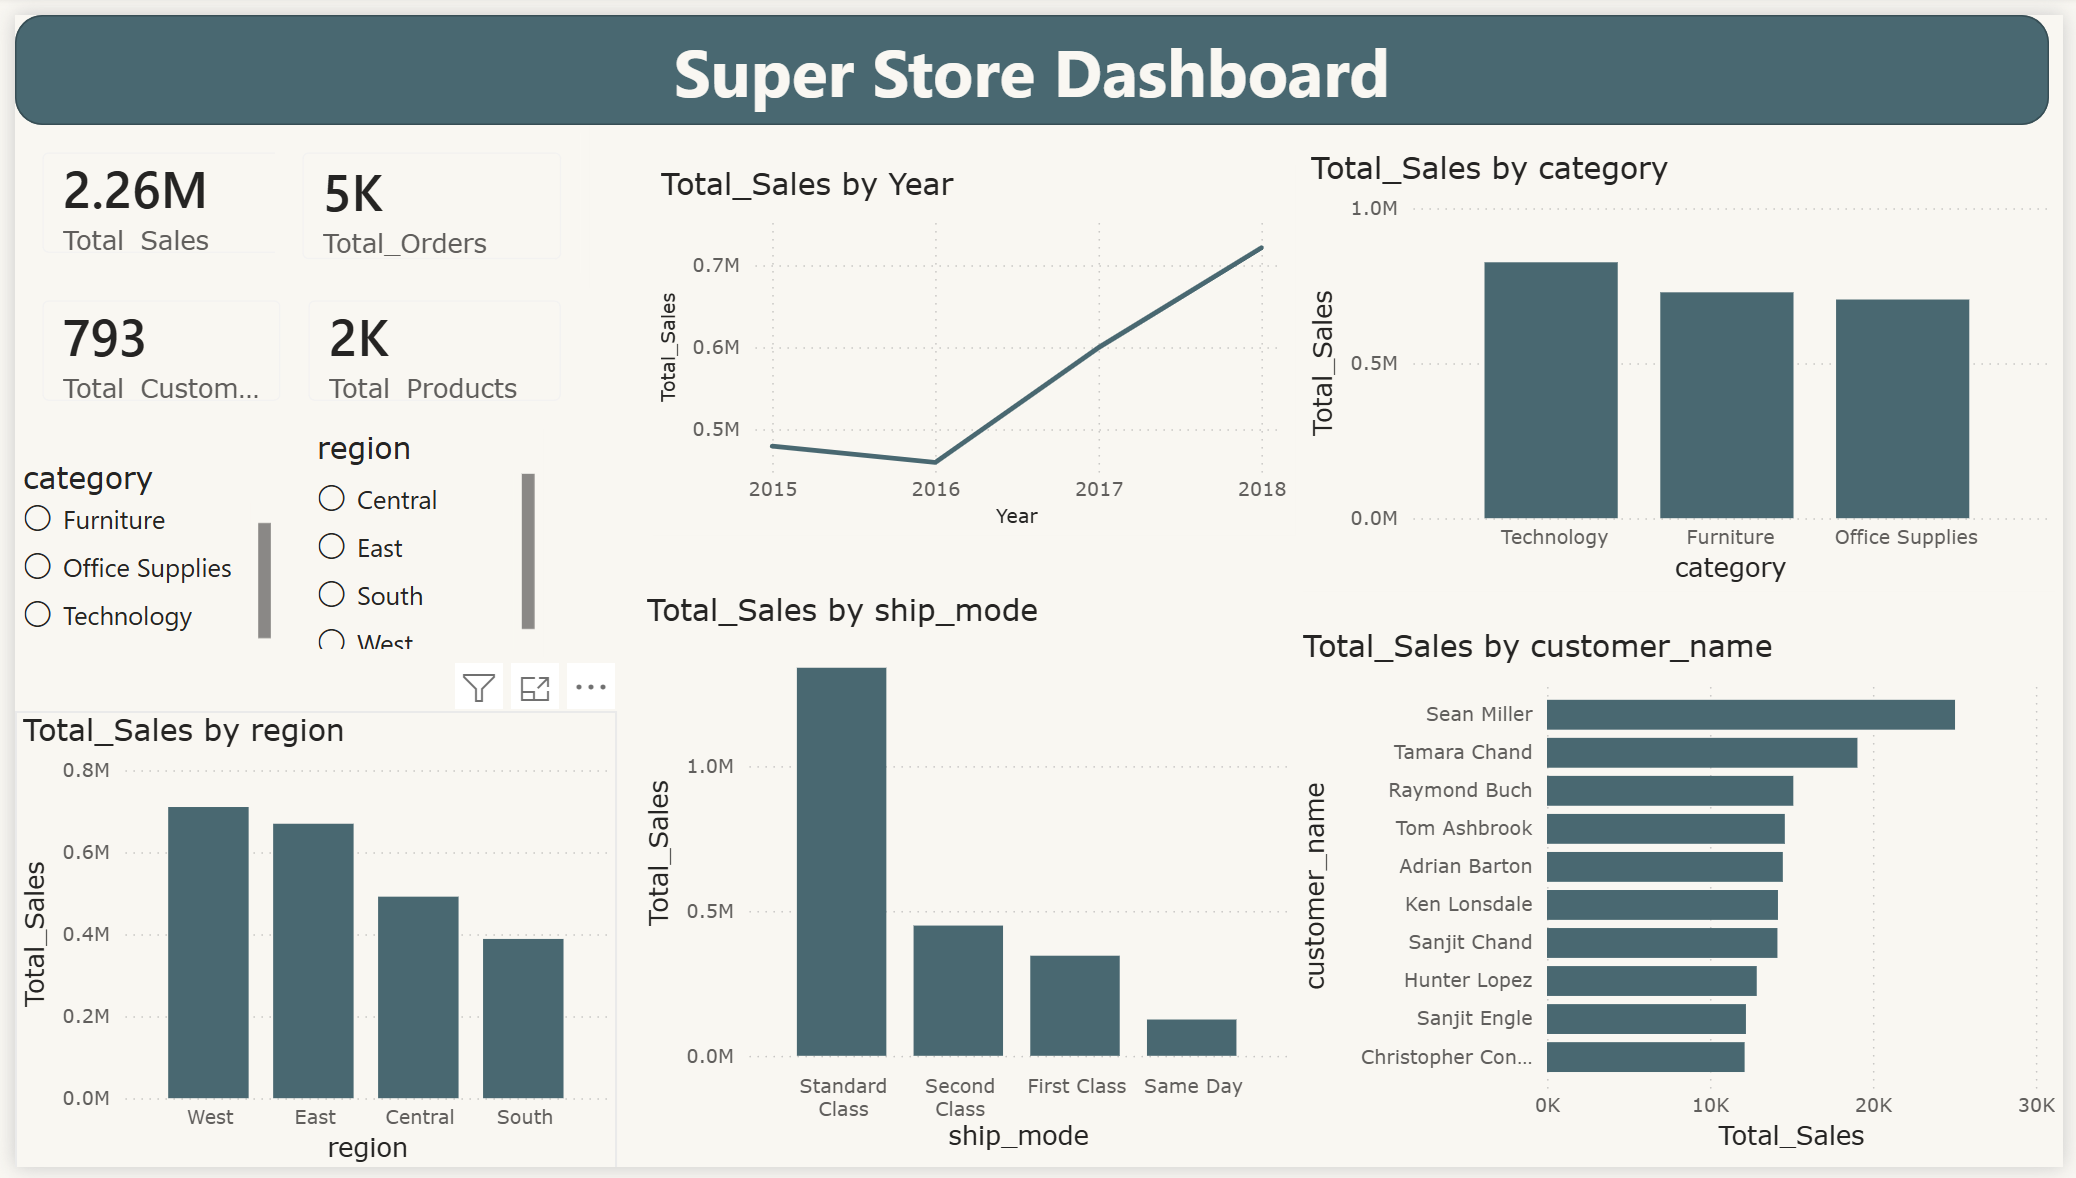

Layout of this report page (visuals, bound fields, positions):
{"tool":"powerbi","page":{"name":"Page 1","canvas":[1280,720],"ordinal":0},"visuals":[{"type":"shape","box":[0,0,1271.2,68.8],"z":0},{"type":"cardVisual","fields":{"Data":["public superstore.Total_Sales"]},"box":[0,68.8,195,97.5],"z":1000},{"type":"cardVisual","fields":{"Data":["public superstore.Total_Orders"]},"box":[162.5,68.8,196.2,101.2],"z":2000},{"type":"cardVisual","fields":{"Data":["public superstore.Total_Customers"]},"box":[0,161.2,183.8,97.5],"z":3000},{"type":"cardVisual","fields":{"Data":["public superstore.Total_Products"]},"box":[166.2,161.2,192.5,97.5],"z":4000},{"type":"lineChart","fields":{"Category":["public superstore.order_date.Variation.Date Hierarchy.Year"],"Y":["public superstore.Total_Sales"]},"box":[398.8,93.8,401.2,231.2],"z":5000},{"type":"columnChart","fields":{"Y":["public superstore.Total_Sales"],"Category":["public superstore.category"]},"box":[805,83.8,470,276.2],"z":6000},{"type":"columnChart","fields":{"Y":["public superstore.Total_Sales"],"Category":["public superstore.ship_mode"]},"box":[390,360,410,355],"z":7000},{"type":"clusteredBarChart","fields":{"Y":["public superstore.Total_Sales"],"Category":["public superstore.customer_name"]},"box":[800,382.5,480,332.5],"z":8000},{"type":"columnChart","fields":{"Y":["public superstore.Total_Sales"],"Category":["public superstore.region"]},"box":[0,435,376.2,287.5],"z":9000},{"type":"listSlicer","fields":{"Values":["public superstore.region"]},"box":[183.8,258.8,146.2,142.5],"z":9001},{"type":"listSlicer","fields":{"Values":["public superstore.category"]},"box":[0,277.5,165,117.5],"z":9002}]}

Visuals, with their boxes in screenshot pixels (x1, y1, x2, y2), scaled from the page's 1280x720 canvas onto the 2076x1178 screenshot:
shape: 0/0/2062/113
cardVisual - public superstore.Total_Sales: 0/113/316/272
cardVisual - public superstore.Total_Orders: 264/113/582/278
cardVisual - public superstore.Total_Customers: 0/264/298/423
cardVisual - public superstore.Total_Products: 270/264/582/423
lineChart - public superstore.order_date.Variation.Date Hierarchy.Year x public superstore.Total_Sales: 647/153/1298/532
columnChart - public superstore.Total_Sales x public superstore.category: 1306/137/2068/589
columnChart - public superstore.Total_Sales x public superstore.ship_mode: 633/589/1298/1170
clusteredBarChart - public superstore.Total_Sales x public superstore.customer_name: 1298/626/2075/1170
columnChart - public superstore.Total_Sales x public superstore.region: 0/712/610/1177
listSlicer - public superstore.region: 298/423/535/657
listSlicer - public superstore.category: 0/454/268/646
